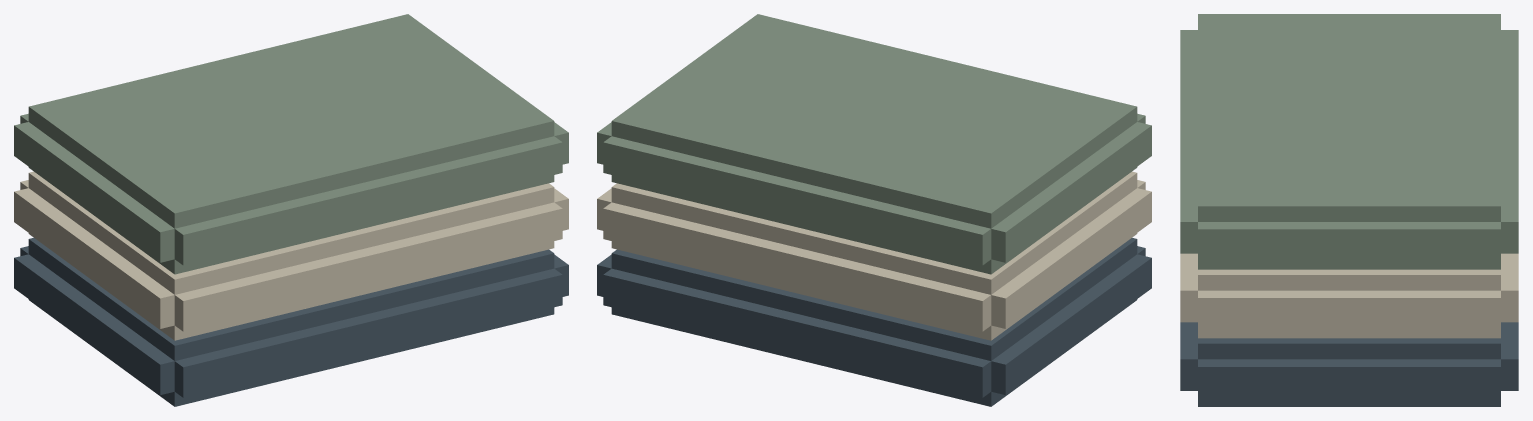
File: sku_towels.glb
3 views of the same model, side by side, from view 1: azimuth 30°, elevation 25°; view 2: azimuth 150°, elevation 25°; view 3: azimuth 270°, elevation 25° (orthographic). The views are drawn at different scales.
Parts seen in each view (by area): view 1: sku_towels_Woven_2, sku_towels_Woven_1, sku_towels_Woven_0; view 2: sku_towels_Woven_2, sku_towels_Woven_1, sku_towels_Woven_0; view 3: sku_towels_Woven_2, sku_towels_Woven_1, sku_towels_Woven_0.
Boxes of the visible parts, x1,y1,x2,y2 form: sku_towels_Woven_2: (14, 14, 568, 274); sku_towels_Woven_1: (14, 171, 568, 340); sku_towels_Woven_0: (14, 237, 568, 406); sku_towels_Woven_2: (597, 14, 1151, 274); sku_towels_Woven_1: (597, 171, 1151, 340); sku_towels_Woven_0: (597, 237, 1151, 406); sku_towels_Woven_2: (1180, 14, 1518, 269); sku_towels_Woven_1: (1180, 253, 1518, 338); sku_towels_Woven_0: (1180, 322, 1518, 406).
Size of the model in its own units: 0.42 by 0.19 by 0.29.
